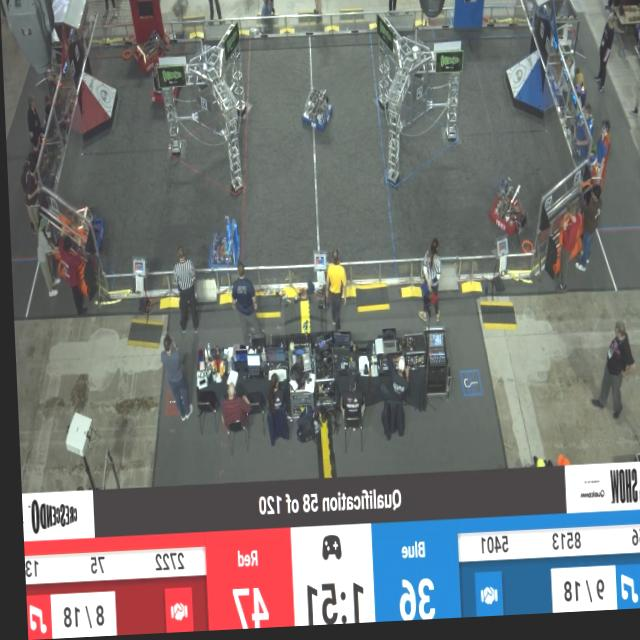Robot: (201, 211, 239, 274), (60, 202, 100, 260), (486, 182, 523, 244), (131, 22, 168, 79), (297, 88, 333, 139), (148, 65, 181, 112)
